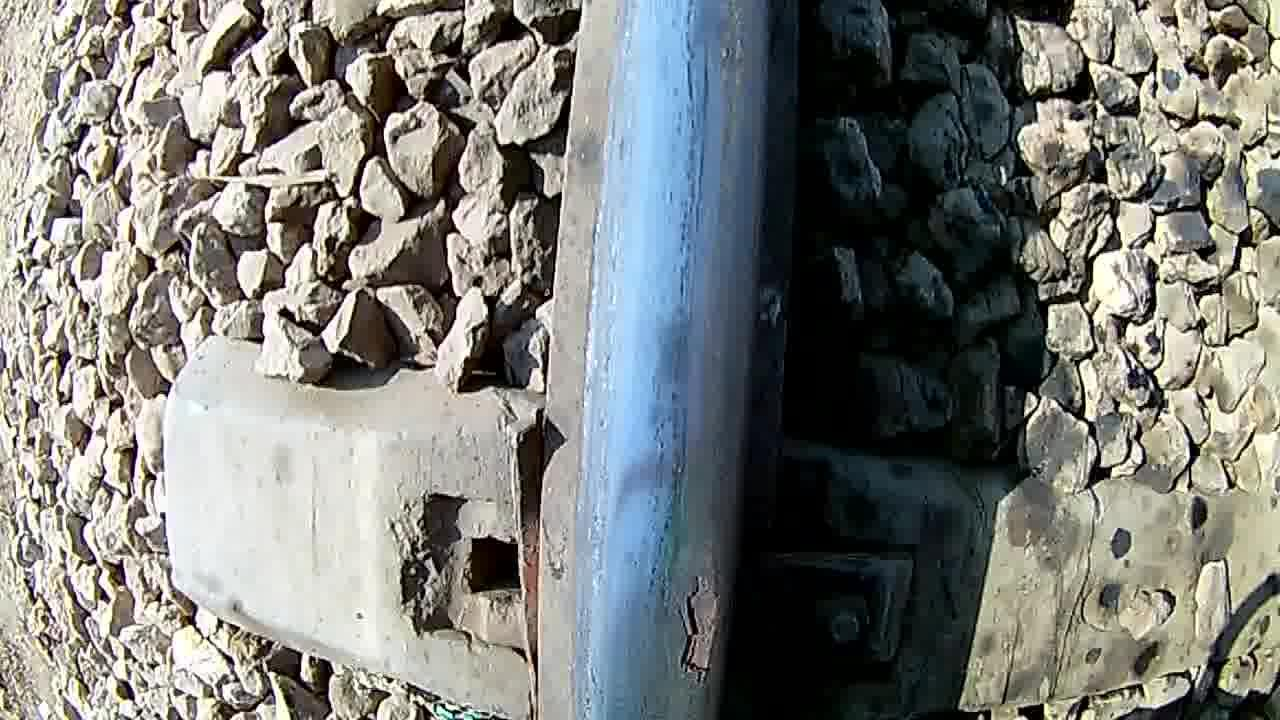crack: (603, 0, 770, 720)
